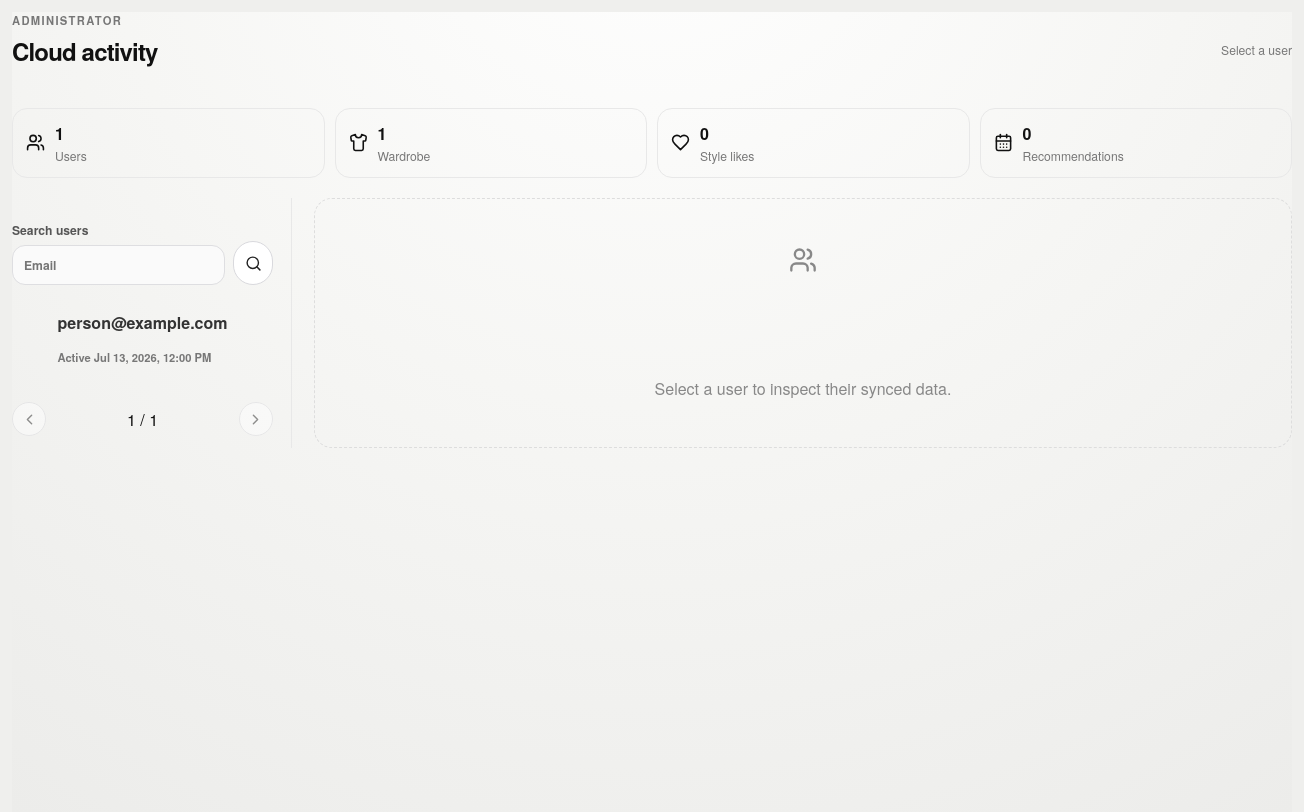
Test: AdminView › loads one selected user's data and exposes settings read-only
Click the button "person@example.com Active Jul 13, 2026, 12:00 PM": point(142, 323) [12,296,273,380]
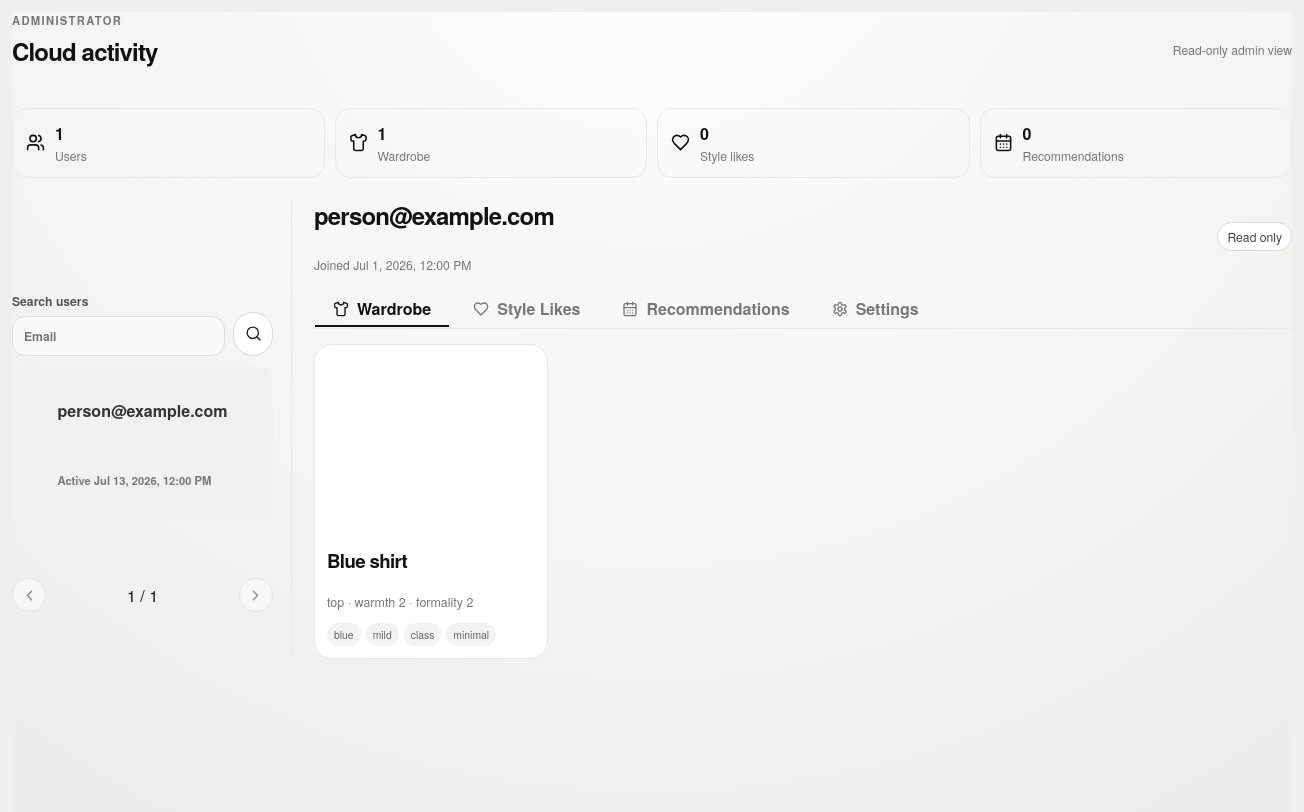
Result: the heading "Blue shirt" is shown at [327,547,407,574]
Click the tab "Settings": point(875, 309) [813,290,938,328]
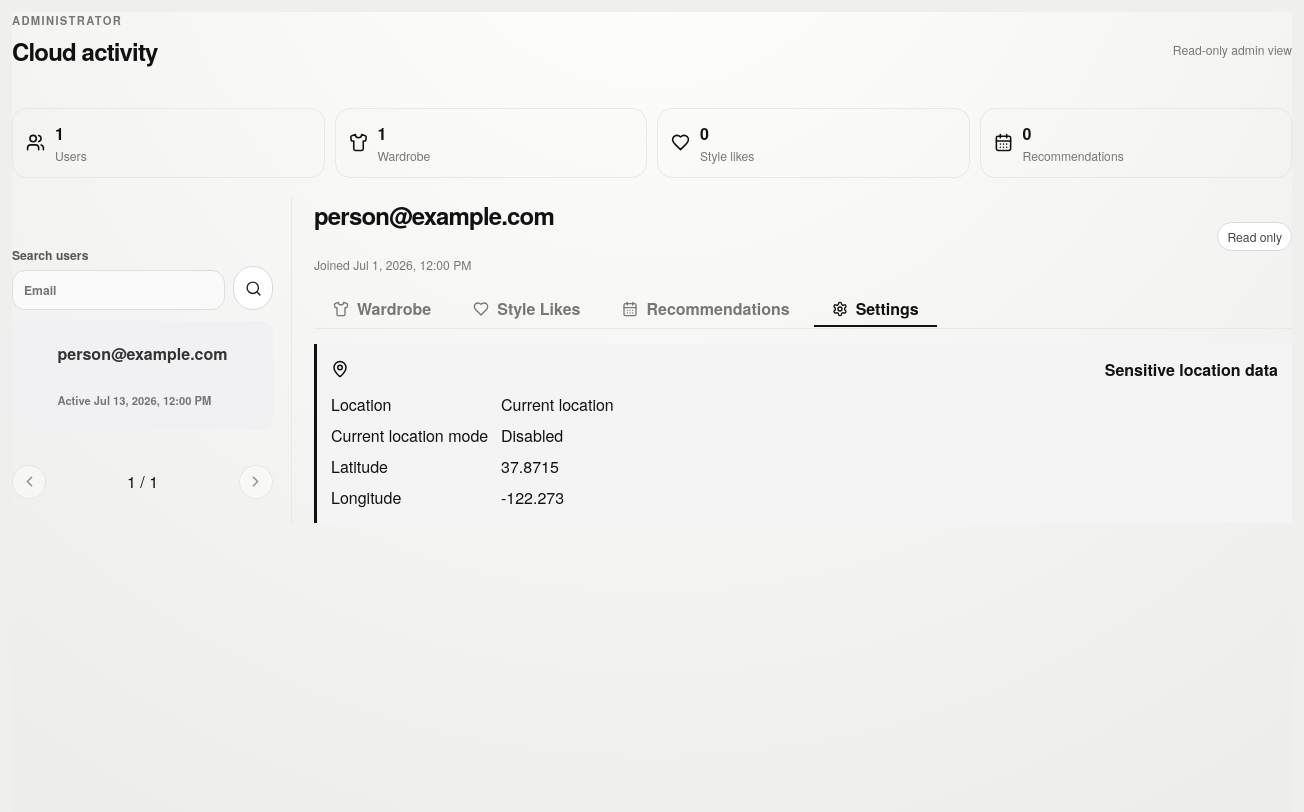
Result: the text "Sensitive location data" is shown at [1105,358,1278,381]
Result: the text "37.8715" is shown at [501,455,559,478]
Result: the text "-122.273" is shown at [501,486,564,509]
